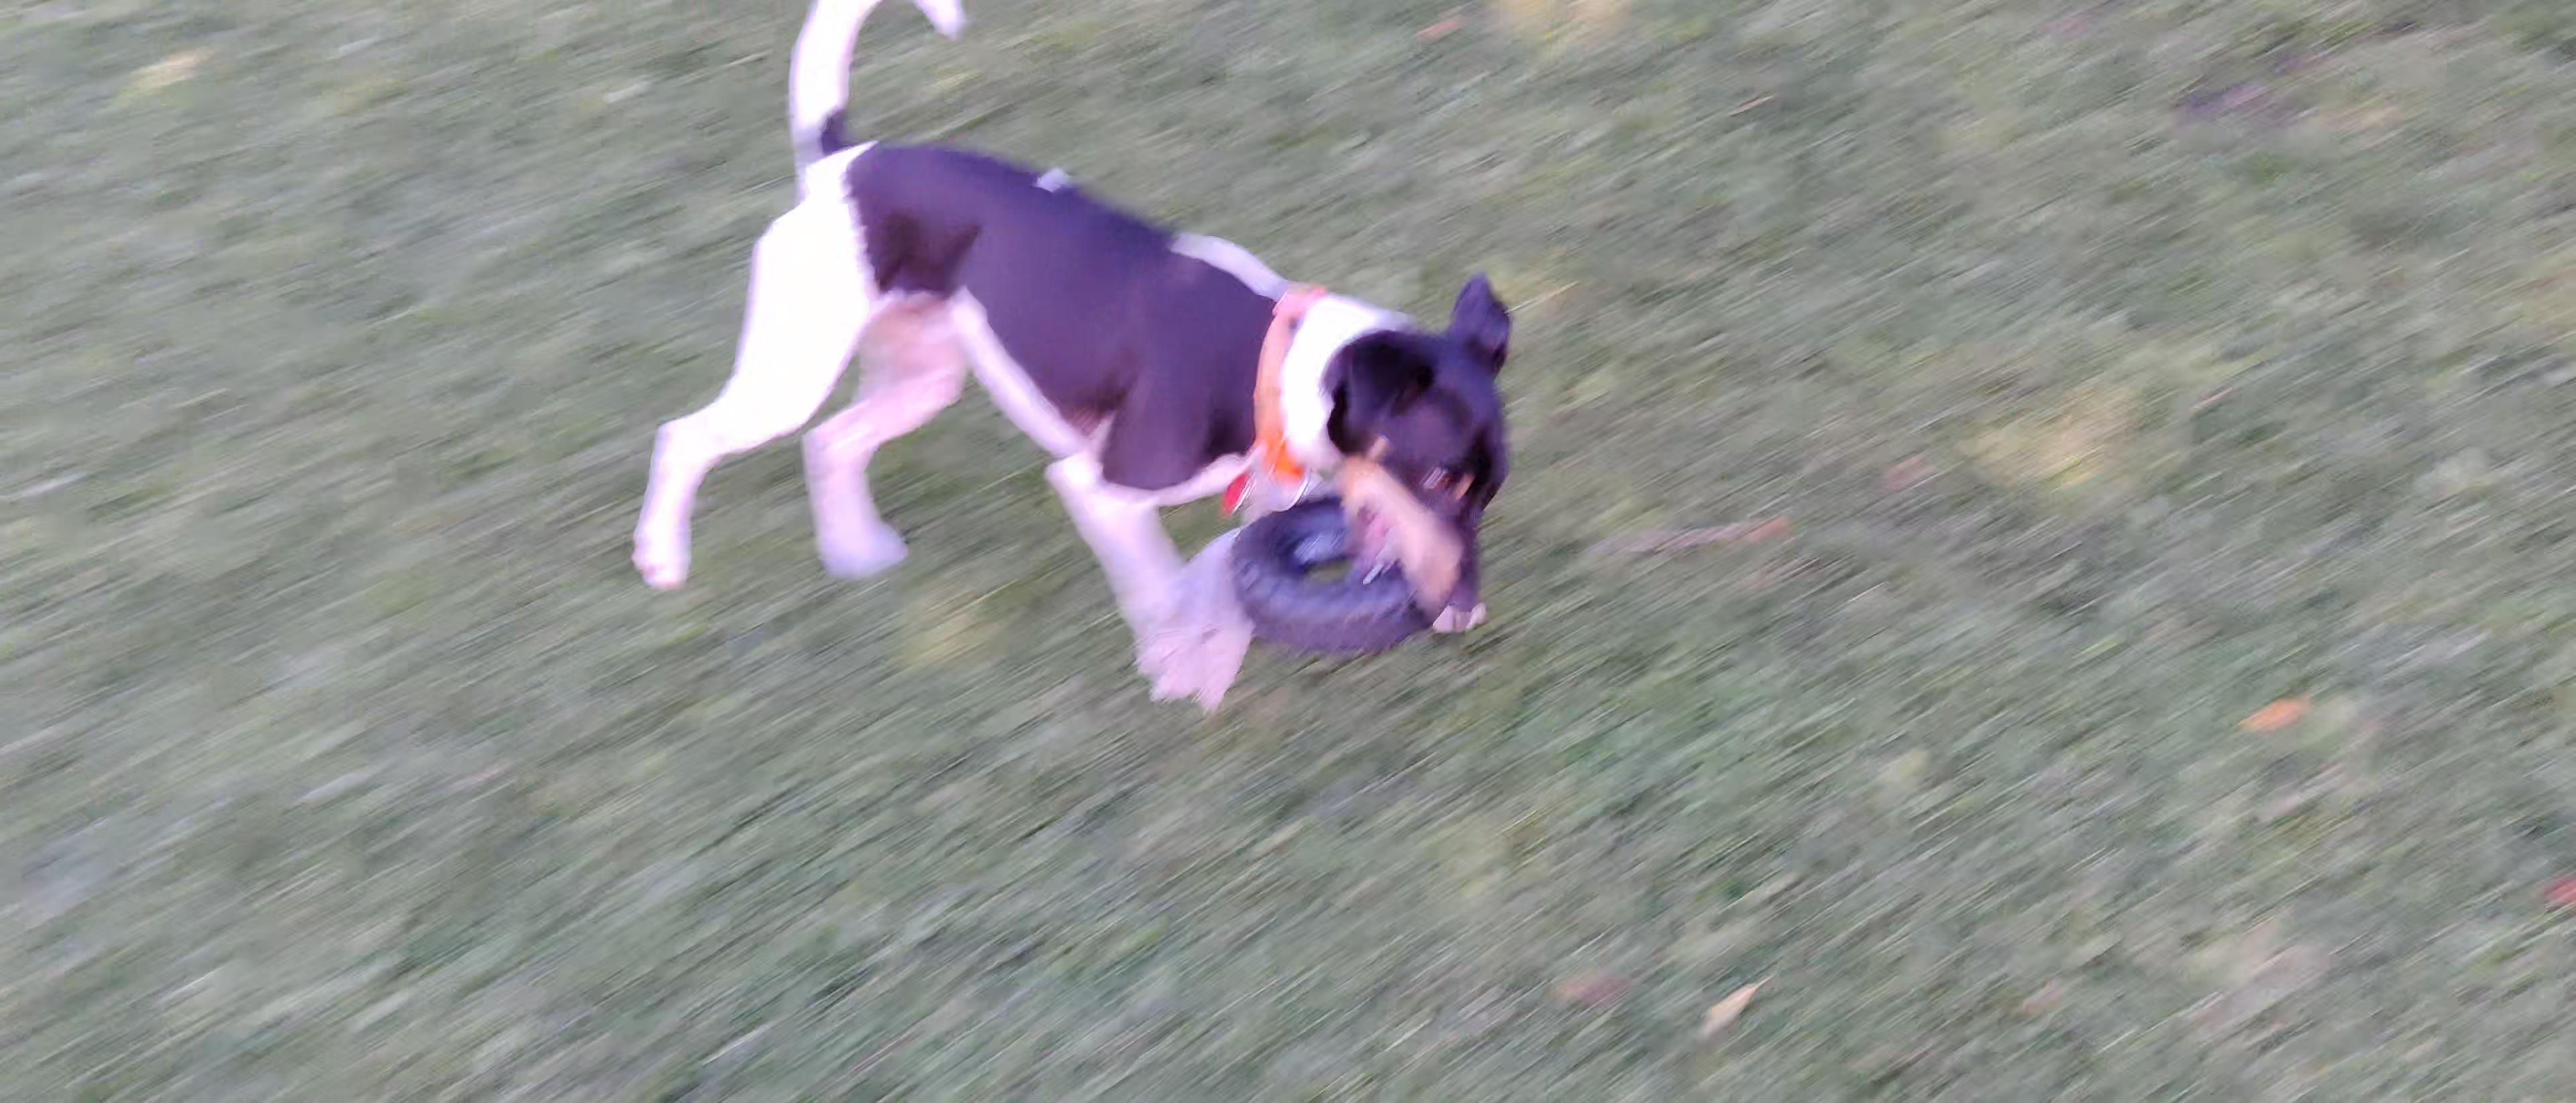Dog: (598, 0, 1548, 728)
